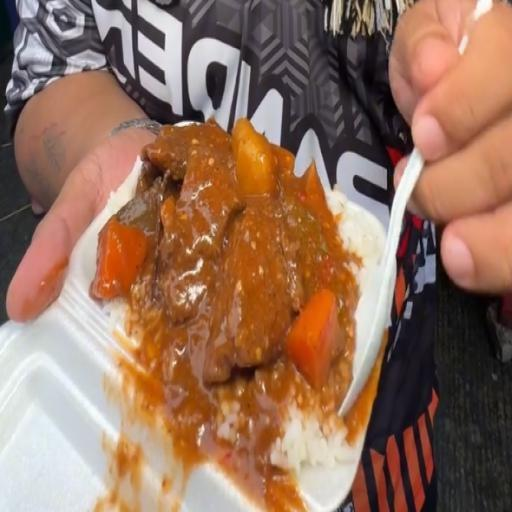pork caldereta: (93, 120, 361, 440)
